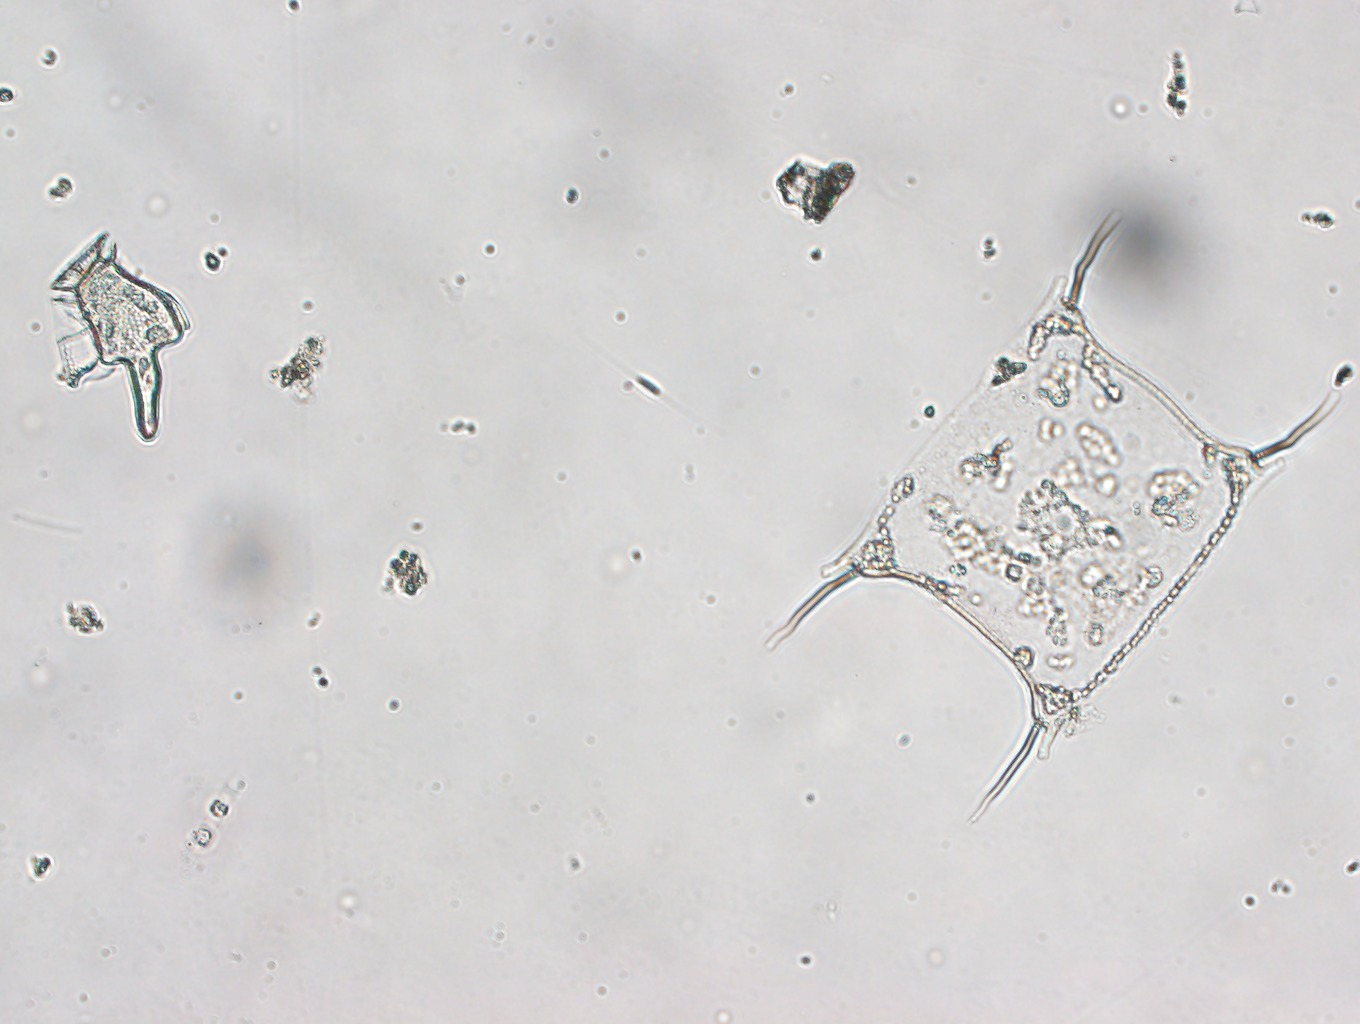biddulphia: (751, 191, 1342, 822)
dinophysis caudata: (34, 225, 194, 451)
